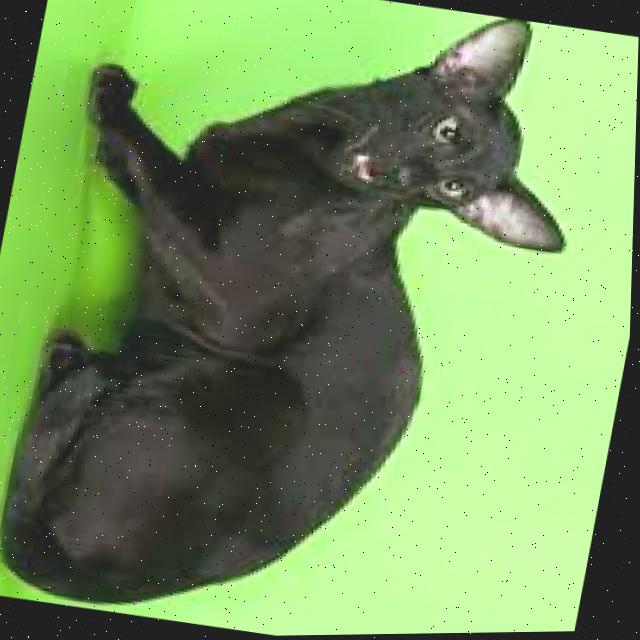Oriental: (0, 0, 614, 640)
